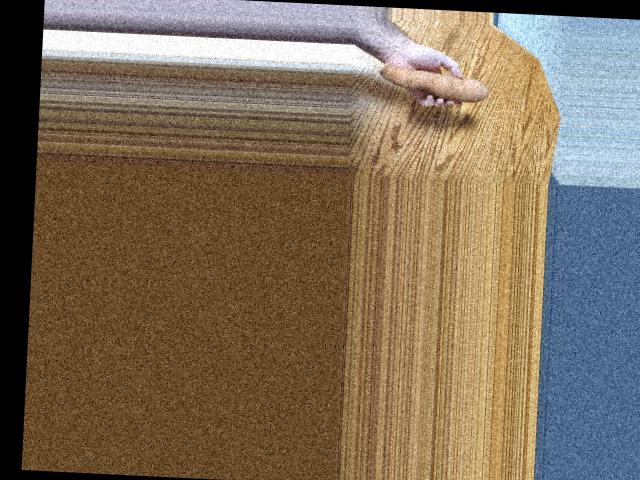sweet_potato: (383, 62, 490, 110)
